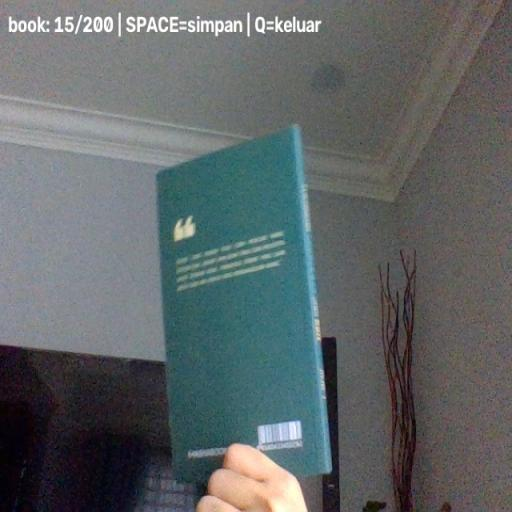Book: (157, 124, 333, 486)
